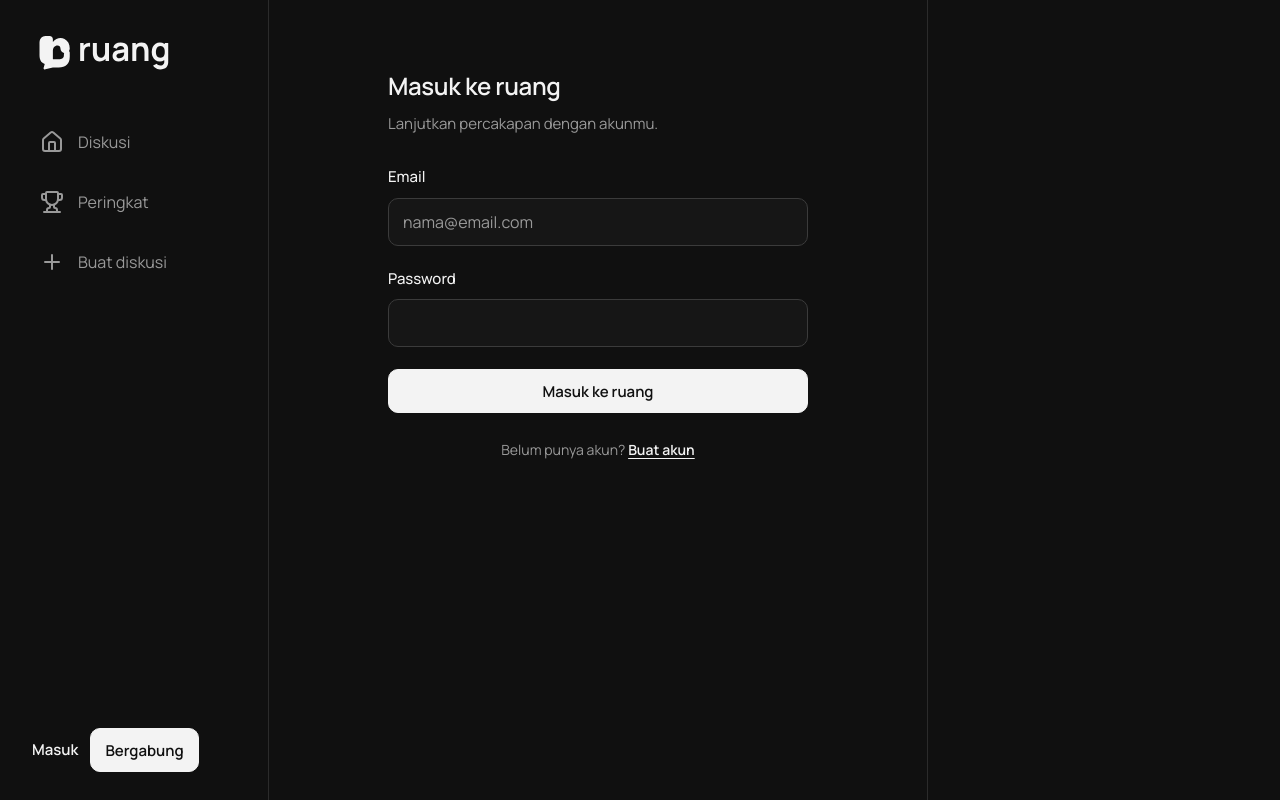
Test: alur login Ruang Diskusi › masuk dengan kredensial valid dan menampilkan profil pada beranda
The image size is (1280, 800).
Type "e2e@example.com" into the field with id "login-email". click: (598, 222)
box: 388,198 -> 808,246
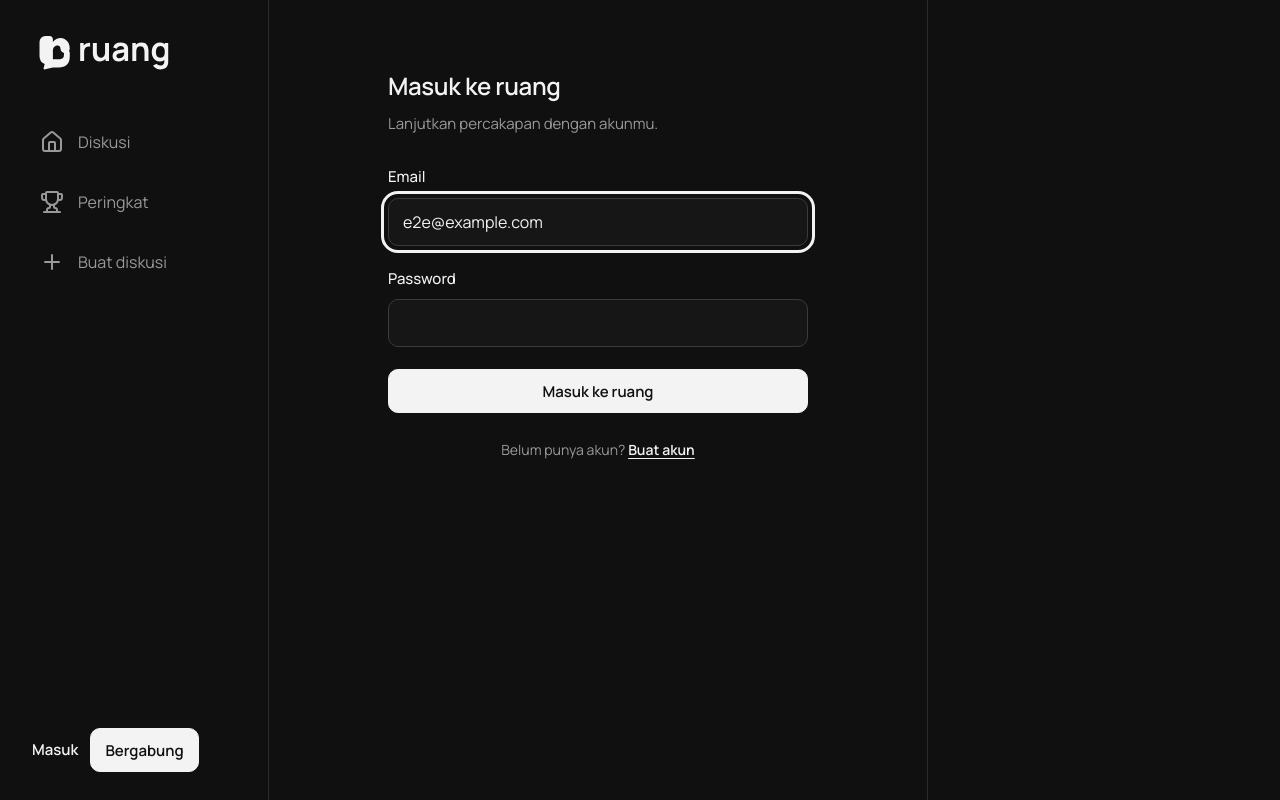
Type "test-password" into the password field with id "login-password". click: (598, 323)
box: 388,299 -> 808,347
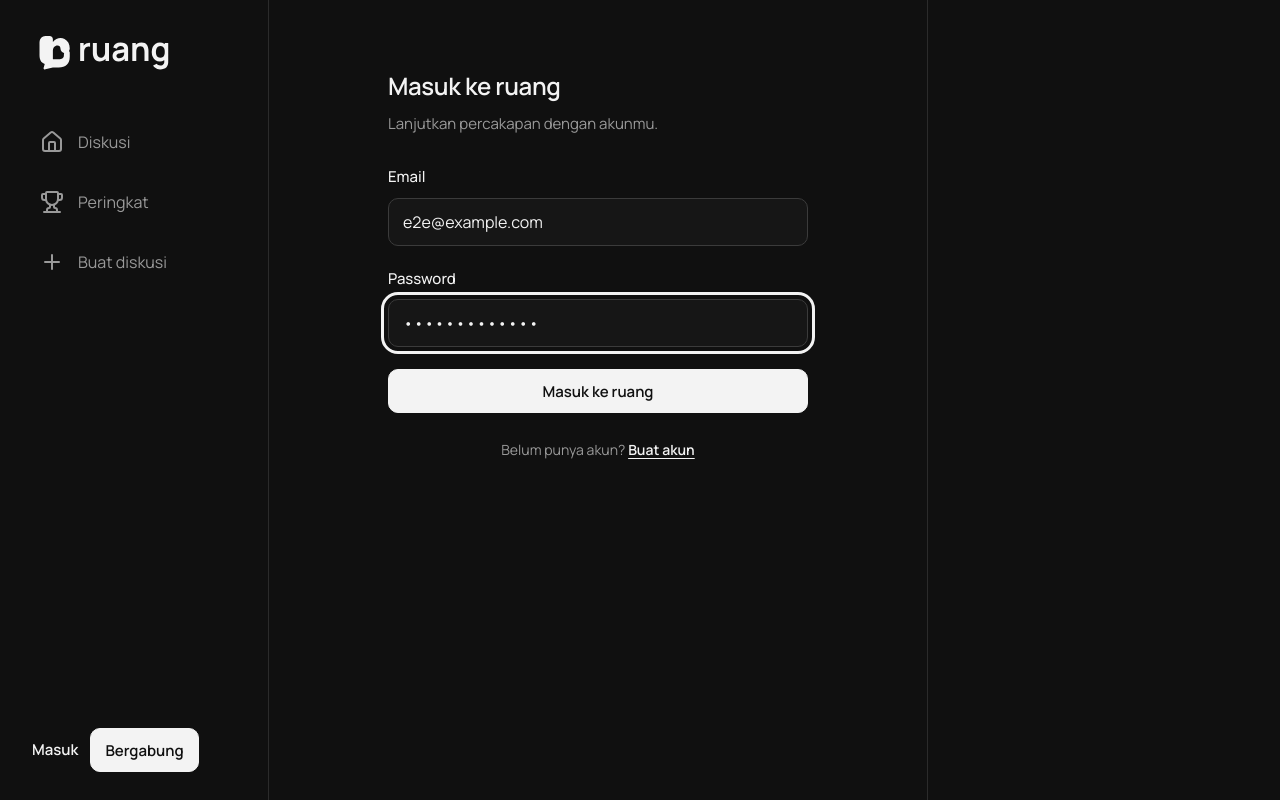
Click the submit button. click: (598, 391)
box: 388,369 -> 808,413
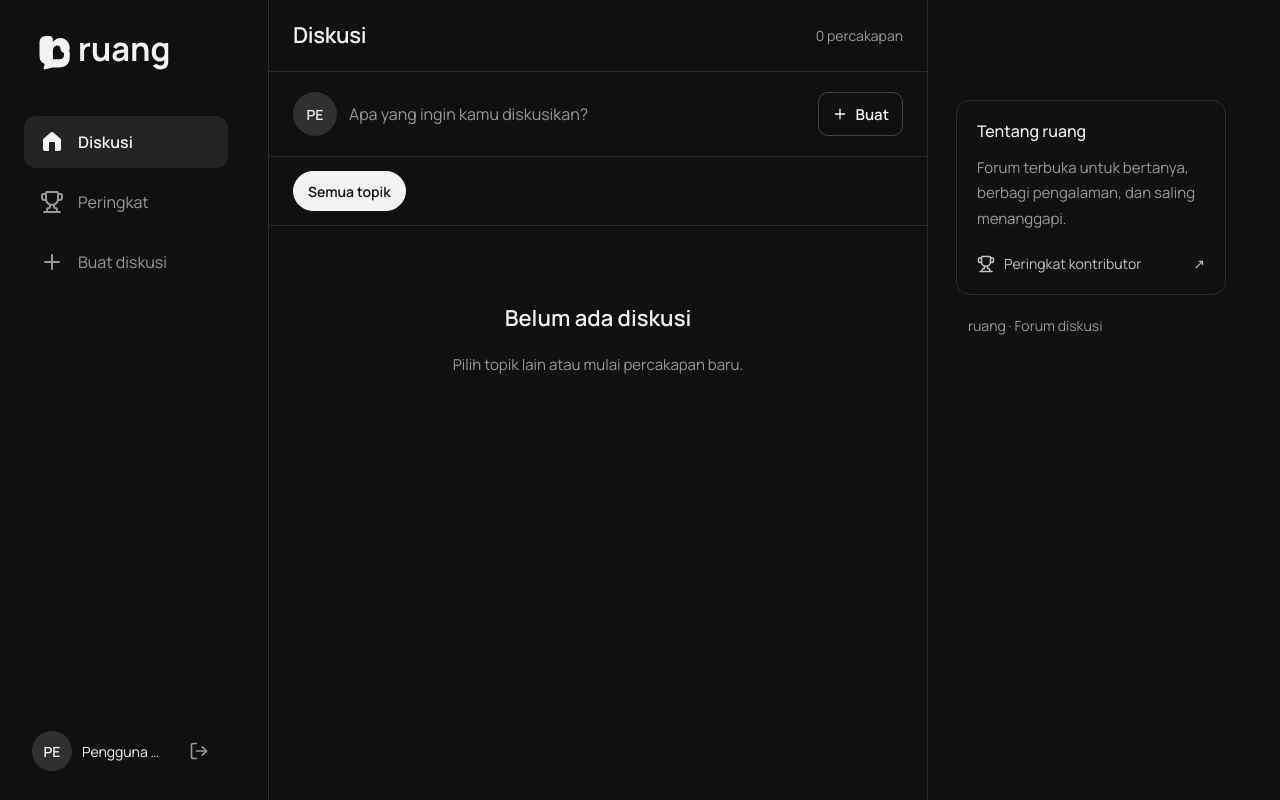
Check: the element with class "account-user" shows "Pengguna E2E", box 32,731 -> 166,771
